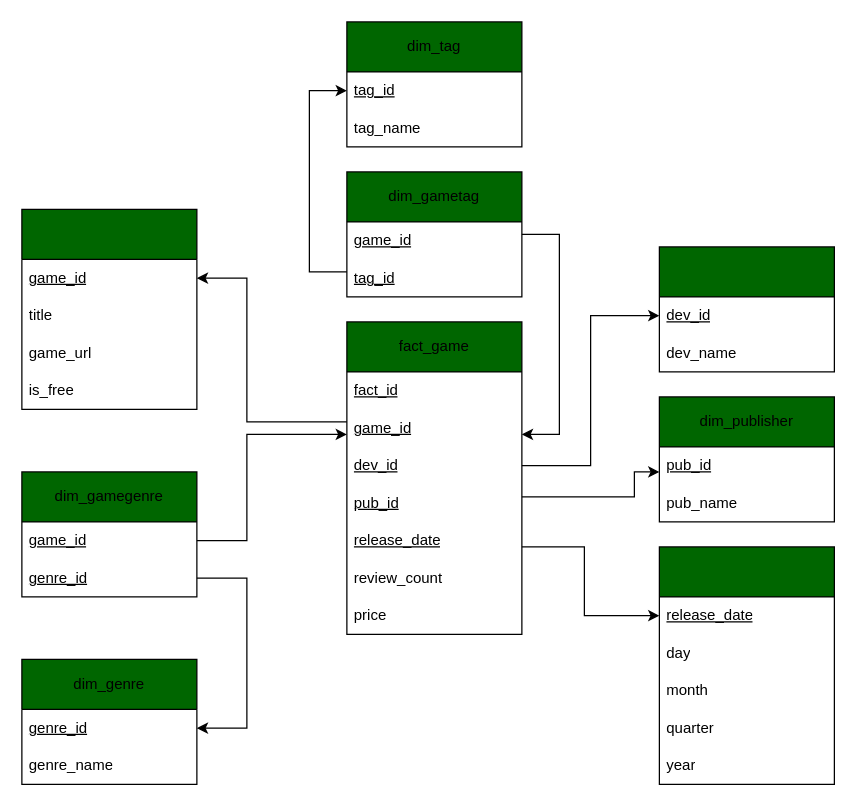
Image size: 856x806. Some labels were removed from this diagram. Here are the shapes that lost their labels. From the top down, the box of each, then its label:
(21, 208, 197, 409): dim_game
(658, 246, 834, 372): dim_developer
(658, 546, 834, 784): dim_date
